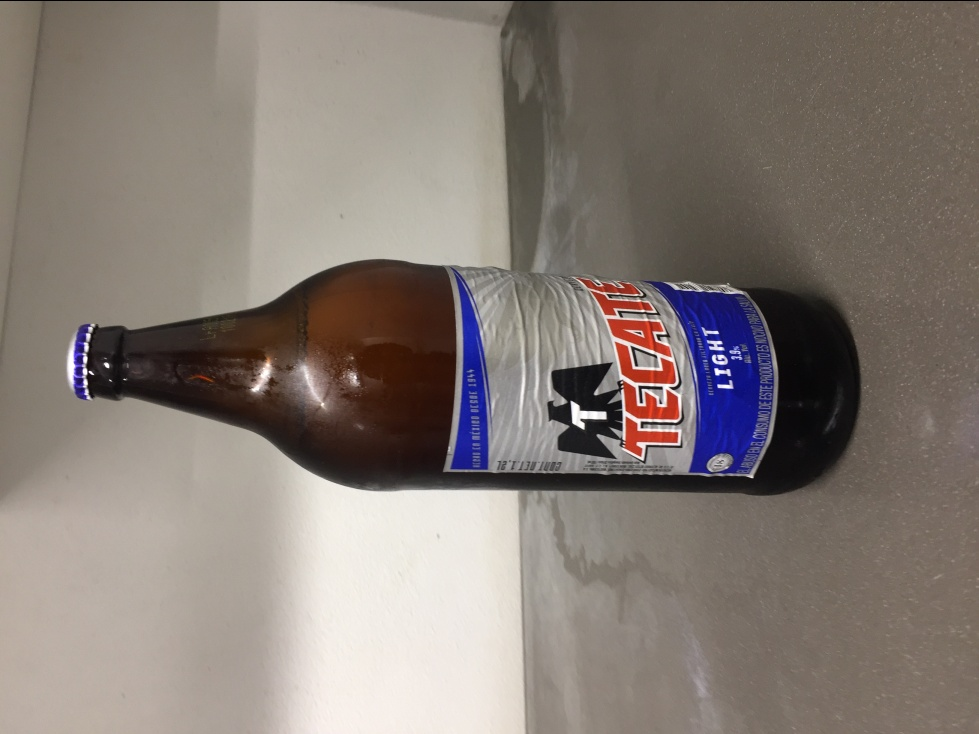tecateC: (71, 255, 860, 498)
